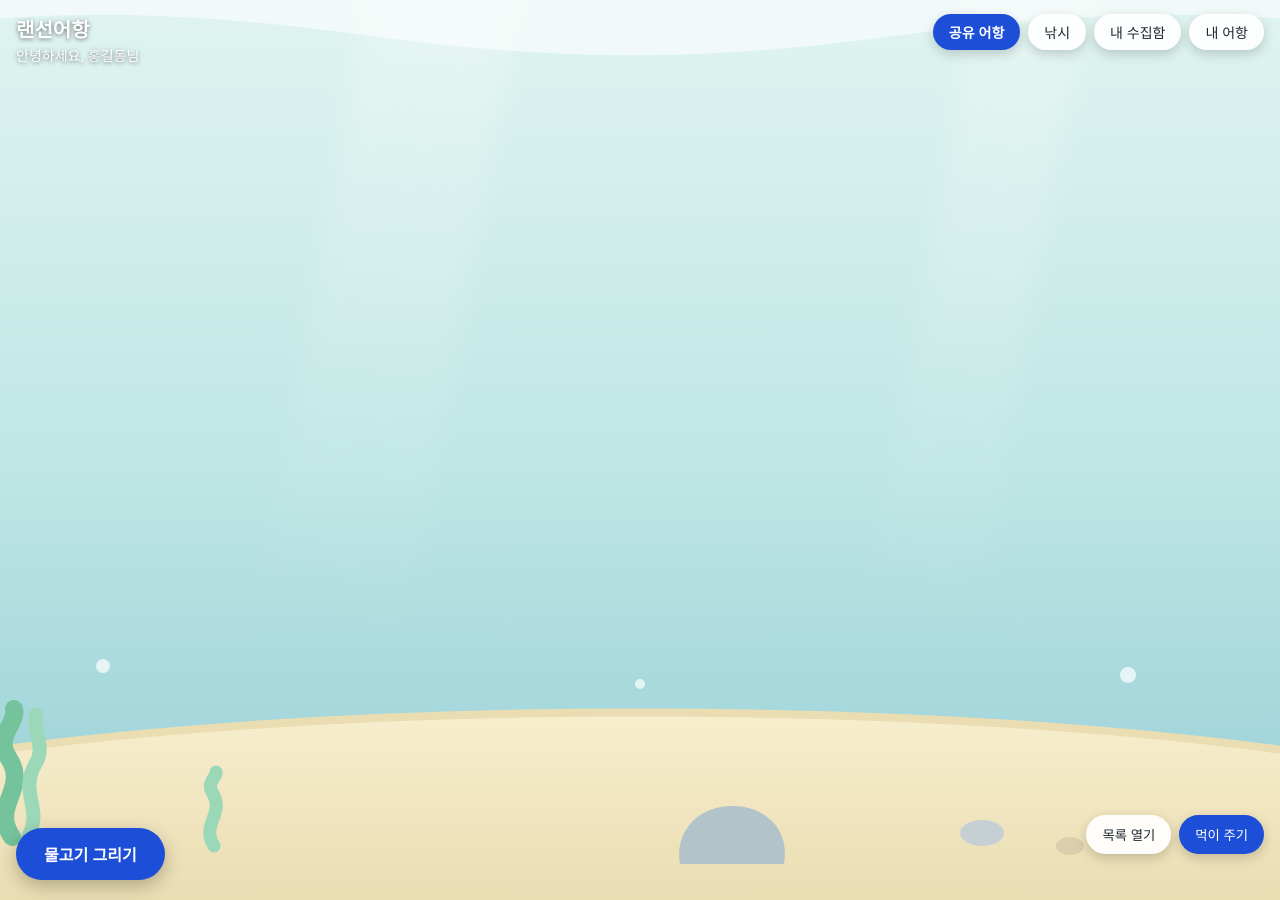
Test: App 뷰 전환 (REQ-COLL-002) › 수집함에서 '공유 어항' 버튼을 누르면 다시 어항 뷰로 돌아온다
This screenshot has width=1280, height=900.
Click the button "내 수집함". click: [1138, 32]
box: [1094,14,1181,50]
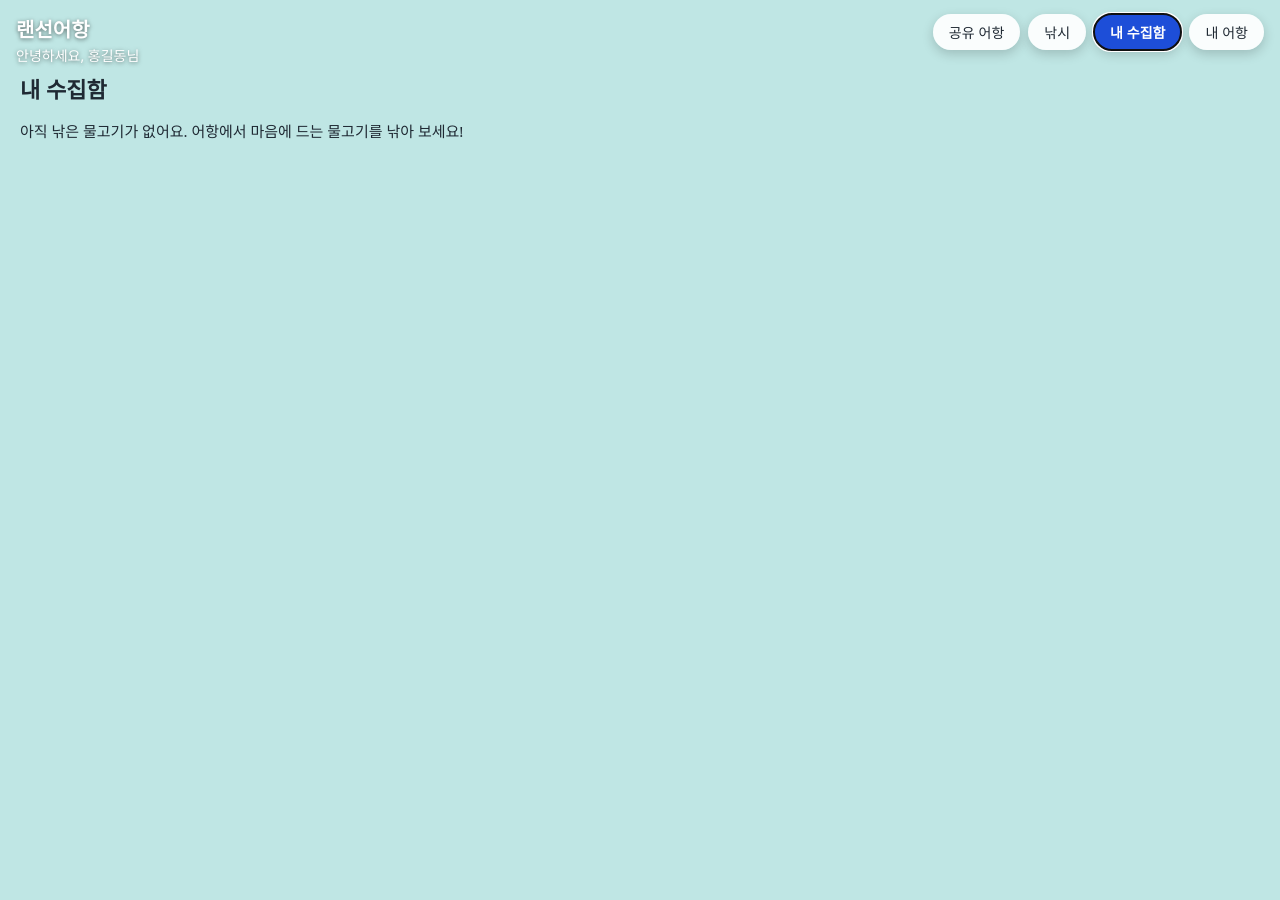
Result: the heading "내 수집함" is shown at [20,74,107,104]
Click the button "공유 어항". click: [977, 32]
box: [933,14,1020,50]
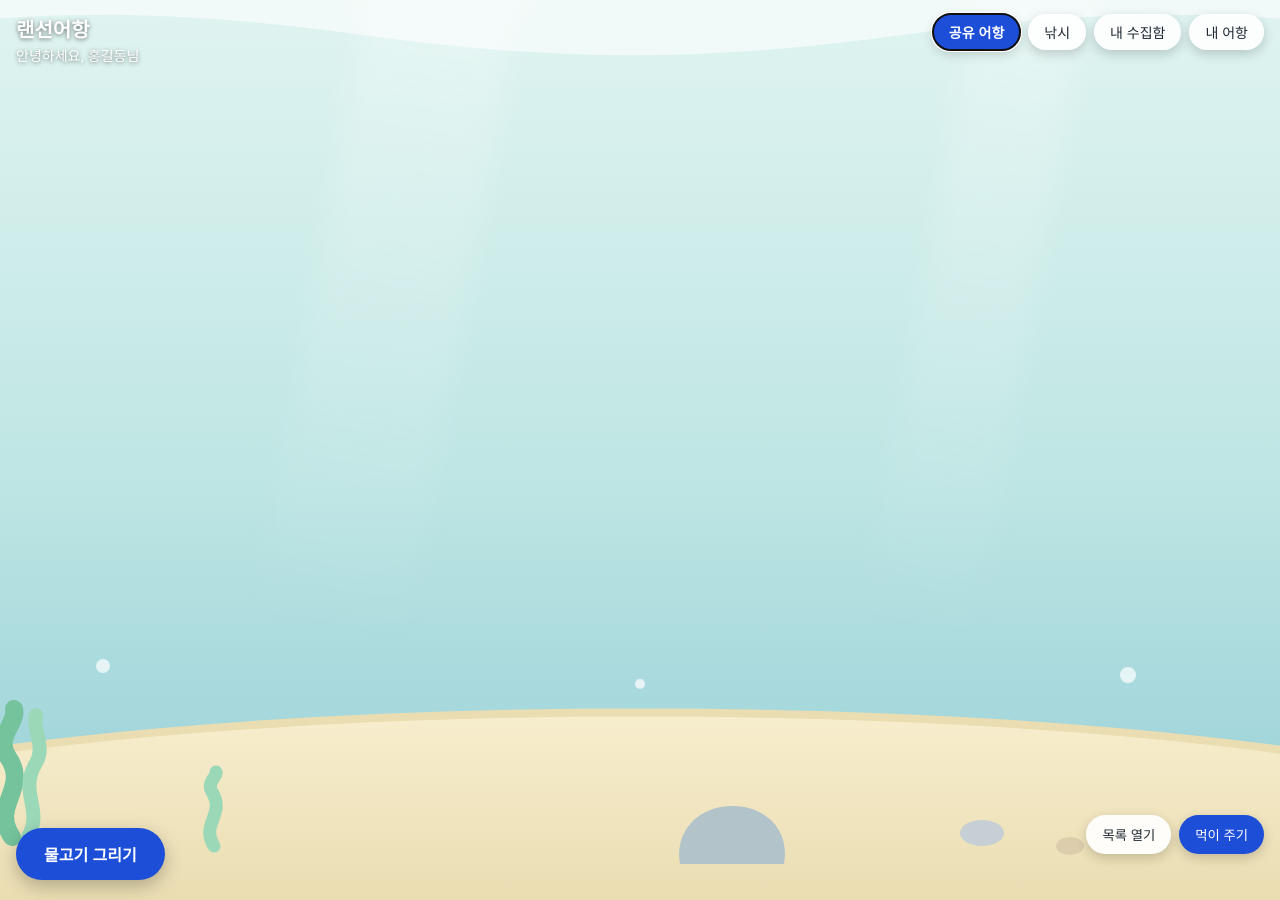
Result: the picture named "어항" is shown
